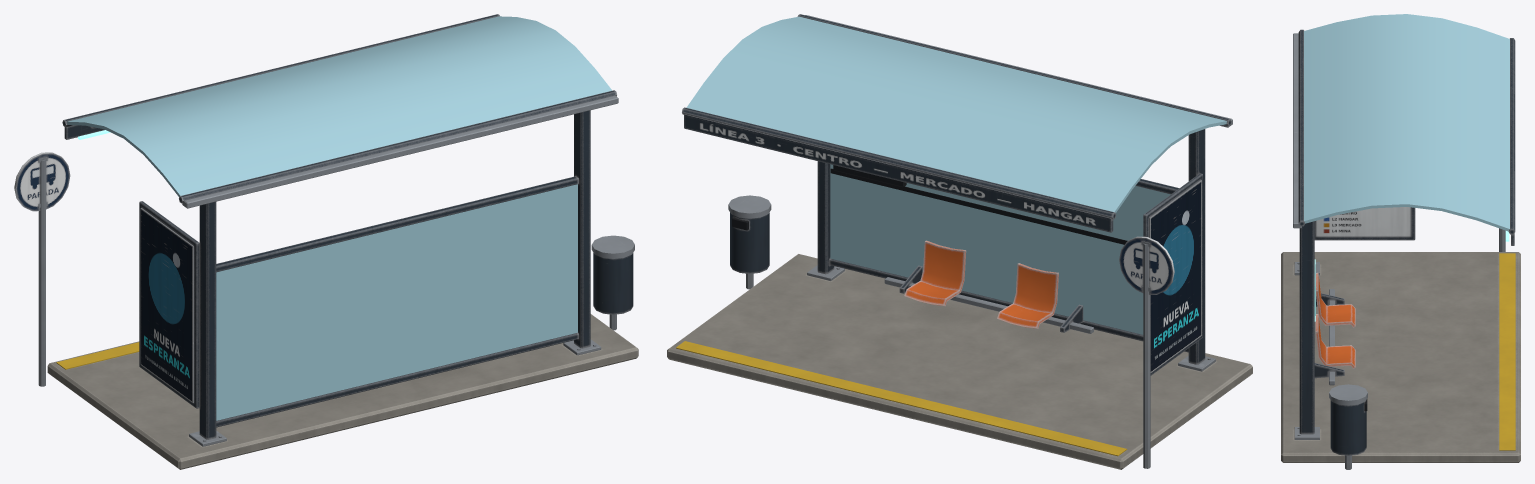
Rendered from marquesina_parada.fbx.
3 renders of one model, left to right at view 1: azimuth 30°, elevation 25°; view 2: azimuth 150°, elevation 25°; view 3: azimuth 270°, elevation 25°, orthographic. The views are drawn at different scales.
Parts seen in each view (by area): view 1: marquesina_parada_cristal, marquesina_parada; view 2: marquesina_parada, marquesina_parada_cristal; view 3: marquesina_parada, marquesina_parada_cristal.
Part boxes in pixels (x1,y1,x2,y2): marquesina_parada_cristal: (67, 16, 611, 420); marquesina_parada: (14, 14, 638, 469); marquesina_parada: (667, 14, 1252, 469); marquesina_parada_cristal: (686, 16, 1226, 334); marquesina_parada: (1281, 29, 1520, 469); marquesina_parada_cristal: (1304, 14, 1509, 231).
Size of the model in its own units: 7.39 by 3.73 by 3.2.
Materials: 4 (1 with a texture image).
